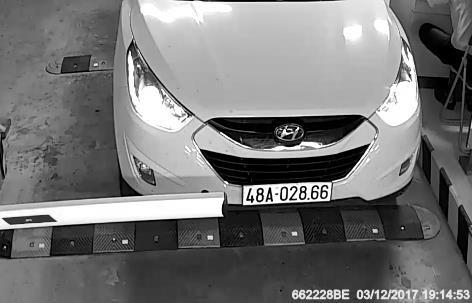License-plate: (237, 179, 340, 215)
